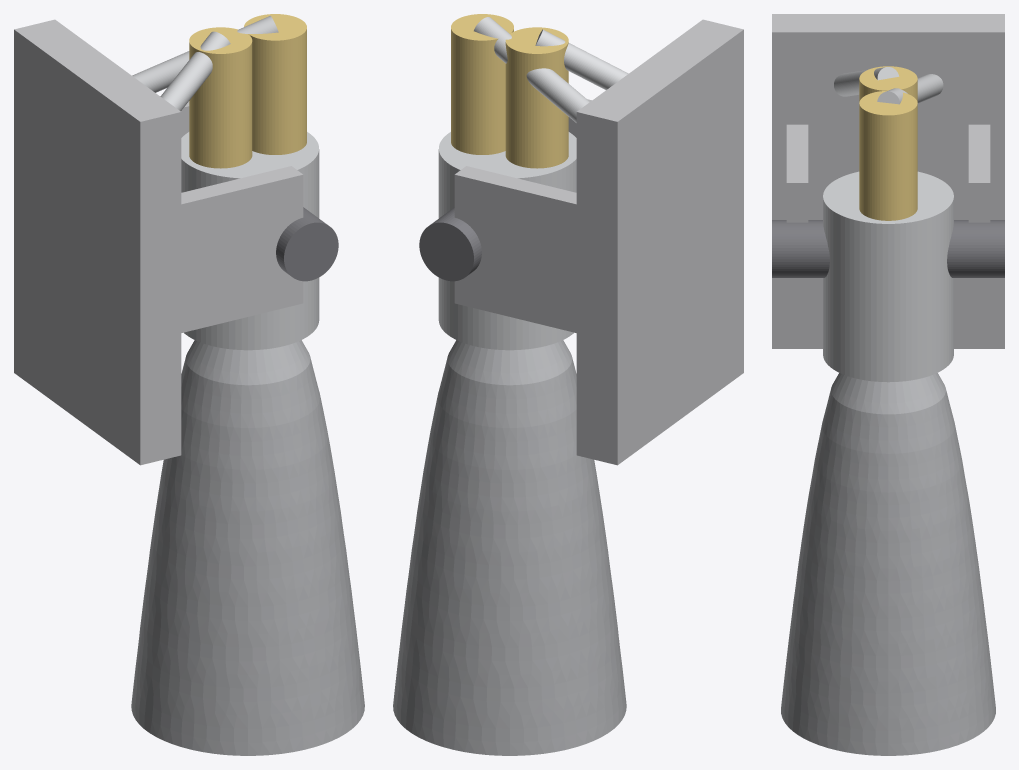
Rendered from prop17_vernier.glb.
The picture shows the model from 3 angles, left to right: view 1: azimuth 30°, elevation 25°; view 2: azimuth 150°, elevation 25°; view 3: azimuth 270°, elevation 25°; orthographic projection. The views are drawn at different scales.
Parts seen in each view (by area): view 1: bracket, nozzle_bell, nozzle_valves, nozzle_chamber, feed_lines, swivel_axle; view 2: bracket, nozzle_bell, nozzle_valves, nozzle_chamber, feed_lines, swivel_axle; view 3: nozzle_bell, bracket, nozzle_chamber, nozzle_valves, swivel_axle, feed_lines.
Boxes of the visible parts, bbox=[...] form: bracket: bbox=[14, 19, 303, 465]; nozzle_bell: bbox=[131, 340, 364, 755]; nozzle_valves: bbox=[189, 14, 306, 168]; nozzle_chamber: bbox=[181, 132, 319, 350]; feed_lines: bbox=[132, 16, 278, 111]; swivel_axle: bbox=[276, 207, 338, 281]; bracket: bbox=[454, 19, 743, 465]; nozzle_bell: bbox=[393, 340, 626, 755]; nozzle_valves: bbox=[451, 14, 568, 168]; nozzle_chamber: bbox=[438, 132, 576, 350]; feed_lines: bbox=[474, 17, 628, 122]; swivel_axle: bbox=[419, 207, 481, 281]; nozzle_bell: bbox=[781, 373, 995, 755]; bracket: bbox=[772, 14, 1004, 348]; nozzle_chamber: bbox=[823, 171, 953, 382]; nozzle_valves: bbox=[859, 66, 917, 220]; swivel_axle: bbox=[772, 220, 1004, 277]; feed_lines: bbox=[834, 67, 943, 104].
Size of the model in its own units: 0.199 by 0.4776 by 0.16.
